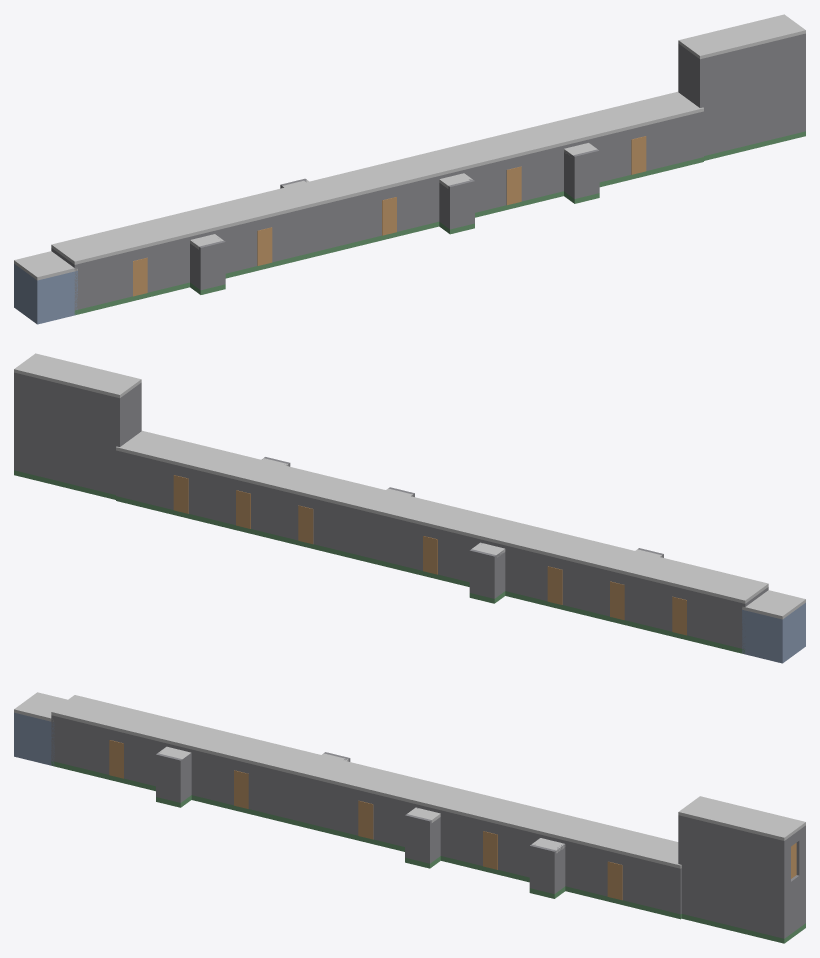
Rendered from floor_2_lower.glb.
The picture shows the model from 3 angles, top to bottom: view 1: azimuth 30°, elevation 25°; view 2: azimuth 150°, elevation 25°; view 3: azimuth 330°, elevation 25°; orthographic projection.
Visible parts, largest first — view 1: Corridor_Ceiling, Stairwell_Wall_S, Corridor_Wall_S_7, Corridor_Floor, Stairwell_Ceiling, Corridor_Wall_S_1, Corridor_Wall_S_17, Corridor_Wall_S_9, Corridor_Wall_S_3, Corridor_Wall_S_13, LiftCar_Wall_S_1, Corridor_Wall_S_15 (+12 smaller); view 2: Corridor_Ceiling, Stairwell_Wall_N, Corridor_Wall_N_11, Corridor_Floor, Stairwell_Ceiling, Corridor_Wall_N_17, Corridor_Wall_N_1, Corridor_Wall_N_3, Corridor_Wall_N_15, Corridor_Wall_N_5, Corridor_Wall_N_13, Corridor_Wall_N_7 (+10 smaller); view 3: Corridor_Ceiling, Stairwell_Wall_S, Corridor_Wall_S_7, Corridor_Floor, Corridor_Wall_S_17, Stairwell_Ceiling, Corridor_Wall_S_1, Corridor_Wall_S_11, Corridor_Wall_S_15, Corridor_Wall_S_5, Corridor_Wall_S_9, LiftCar_Wall_S_1 (+15 smaller).
Part boxes in pixels (left/top/right/bottom): Corridor_Ceiling: left=51, top=91, right=703, bottom=264; Stairwell_Wall_S: left=698, top=33, right=805, bottom=155; Corridor_Wall_S_7: left=272, top=190, right=381, bottom=262; Corridor_Floor: left=74, top=157, right=703, bottom=315; Stairwell_Ceiling: left=678, top=14, right=805, bottom=59; Corridor_Wall_S_1: left=73, top=251, right=132, bottom=310; Corridor_Wall_S_17: left=646, top=111, right=703, bottom=170; Corridor_Wall_S_9: left=396, top=174, right=445, bottom=231; Corridor_Wall_S_3: left=147, top=236, right=192, bottom=292; Corridor_Wall_S_13: left=521, top=145, right=566, bottom=201; LiftCar_Wall_S_1: left=35, top=271, right=77, bottom=319; Corridor_Wall_S_15: left=585, top=129, right=631, bottom=182; Corridor_Ceiling: left=116, top=430, right=768, bottom=603; Stairwell_Wall_N: left=14, top=372, right=121, bottom=494; Corridor_Wall_N_11: left=313, top=498, right=423, bottom=570; Corridor_Floor: left=116, top=496, right=744, bottom=653; Stairwell_Ceiling: left=14, top=353, right=141, bottom=398; Corridor_Wall_N_17: left=116, top=450, right=173, bottom=509; Corridor_Wall_N_1: left=687, top=590, right=746, bottom=648; Corridor_Wall_N_3: left=624, top=574, right=672, bottom=631; Corridor_Wall_N_15: left=188, top=468, right=236, bottom=525; Corridor_Wall_N_5: left=562, top=559, right=610, bottom=616; Corridor_Wall_N_13: left=251, top=483, right=298, bottom=540; Corridor_Wall_N_7: left=499, top=544, right=547, bottom=601; Corridor_Ceiling: left=51, top=695, right=681, bottom=868; Stairwell_Wall_S: left=678, top=815, right=786, bottom=938; Corridor_Wall_S_7: left=248, top=763, right=358, bottom=835; Corridor_Floor: left=51, top=761, right=681, bottom=919; Corridor_Wall_S_17: left=622, top=854, right=681, bottom=914; Stairwell_Ceiling: left=678, top=796, right=805, bottom=840; Corridor_Wall_S_1: left=51, top=715, right=109, bottom=774; Corridor_Wall_S_11: left=434, top=809, right=483, bottom=865; Corridor_Wall_S_15: left=562, top=840, right=607, bottom=896; Corridor_Wall_S_5: left=188, top=748, right=233, bottom=805; Corridor_Wall_S_9: left=373, top=794, right=421, bottom=846; LiftCar_Wall_S_1: left=14, top=712, right=54, bottom=760.
Bounding box in the file's own units: 49.4 × 6.5 × 5.
